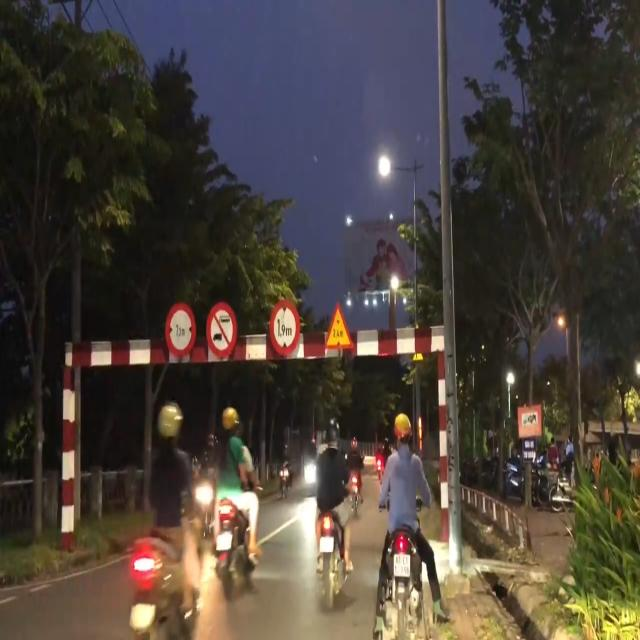Bien bao cam xe oto khach va xe oto tai: (204, 298, 237, 360)
Bien bao chieu cao tinh khong thuc te: (320, 298, 356, 354)
Bien bao han che chieu cao: (269, 294, 303, 358)
